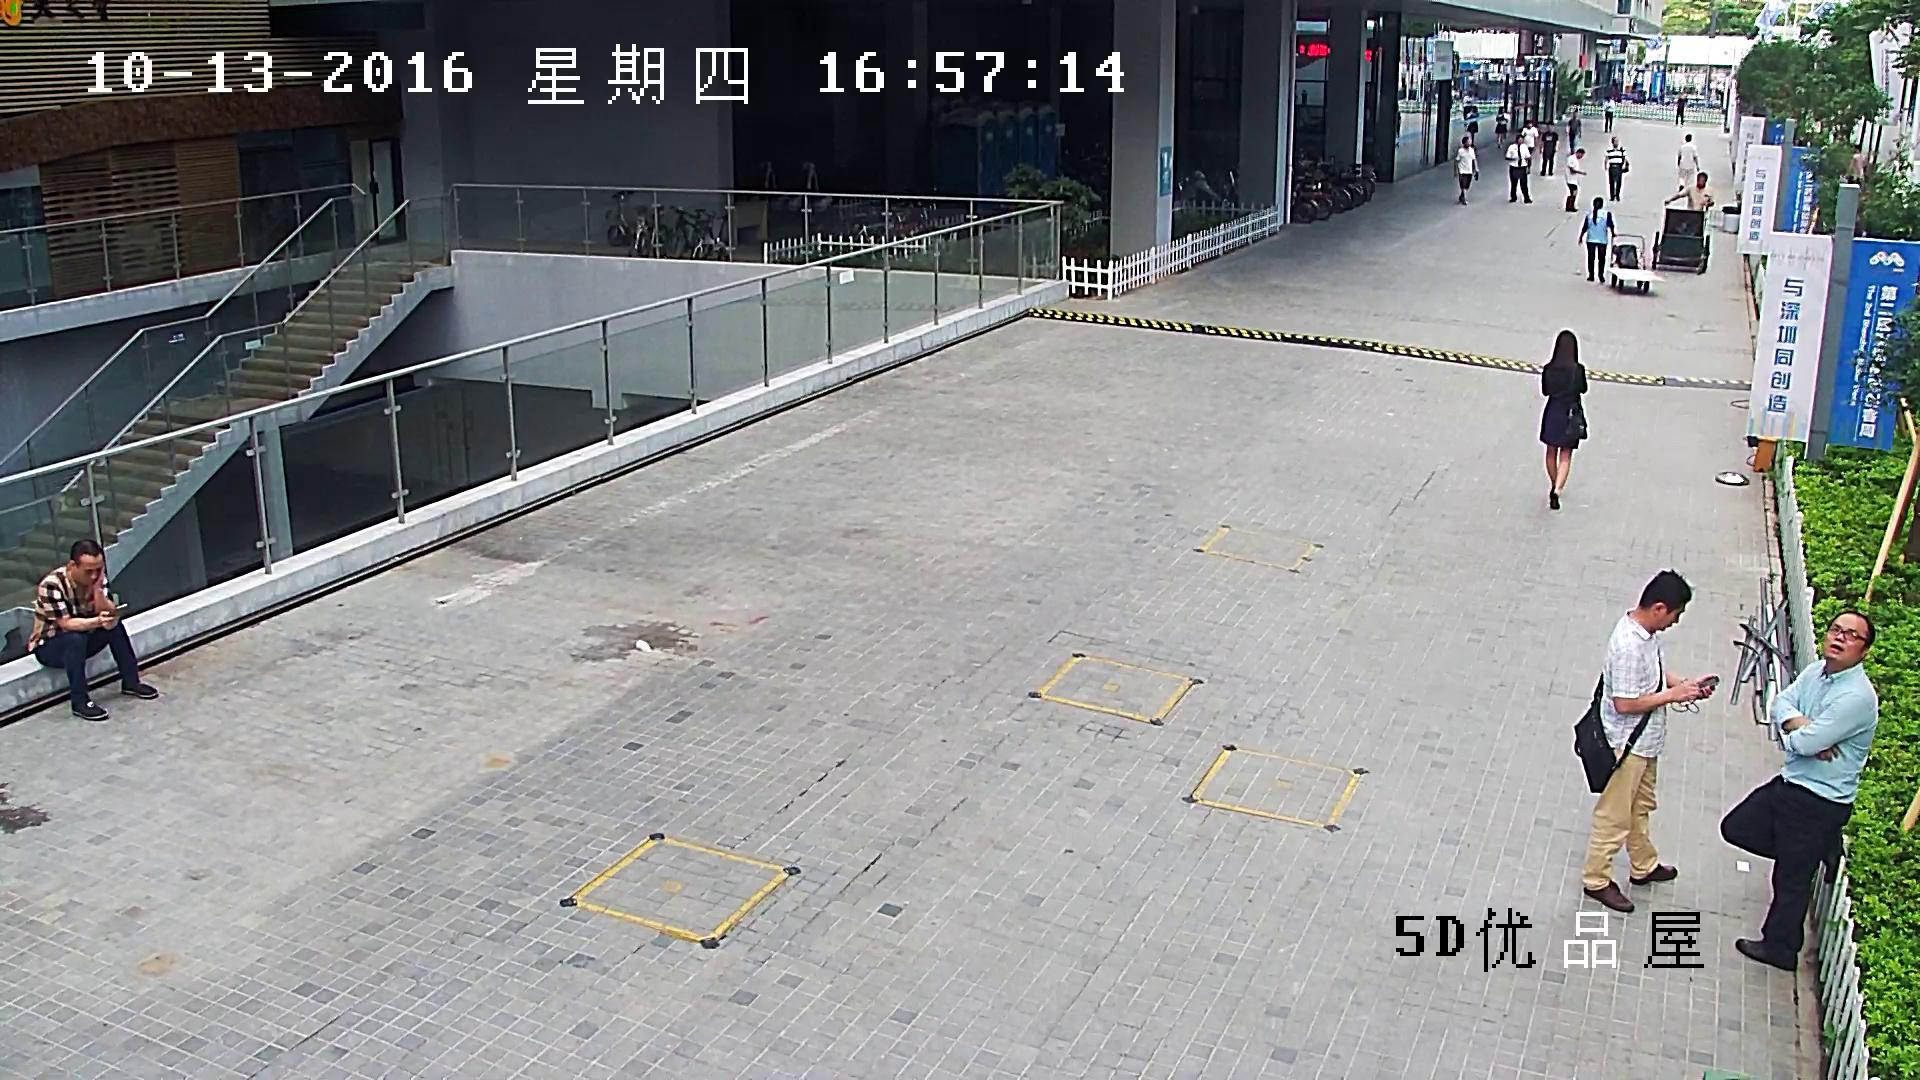person: (1719, 611, 1880, 973), (1572, 568, 1718, 911), (26, 539, 157, 721), (1539, 328, 1587, 508), (1578, 196, 1665, 294), (1652, 171, 1715, 274), (1578, 196, 1615, 283), (1664, 171, 1715, 211), (1505, 135, 1532, 202), (1455, 136, 1479, 203), (1604, 136, 1629, 200), (1564, 148, 1586, 211), (1677, 134, 1700, 190), (1520, 120, 1539, 174), (1539, 124, 1559, 174), (1565, 111, 1582, 154), (1848, 144, 1866, 176), (1495, 107, 1508, 150), (1466, 106, 1478, 145), (1675, 95, 1688, 125), (1603, 97, 1615, 131), (1462, 90, 1473, 125)
